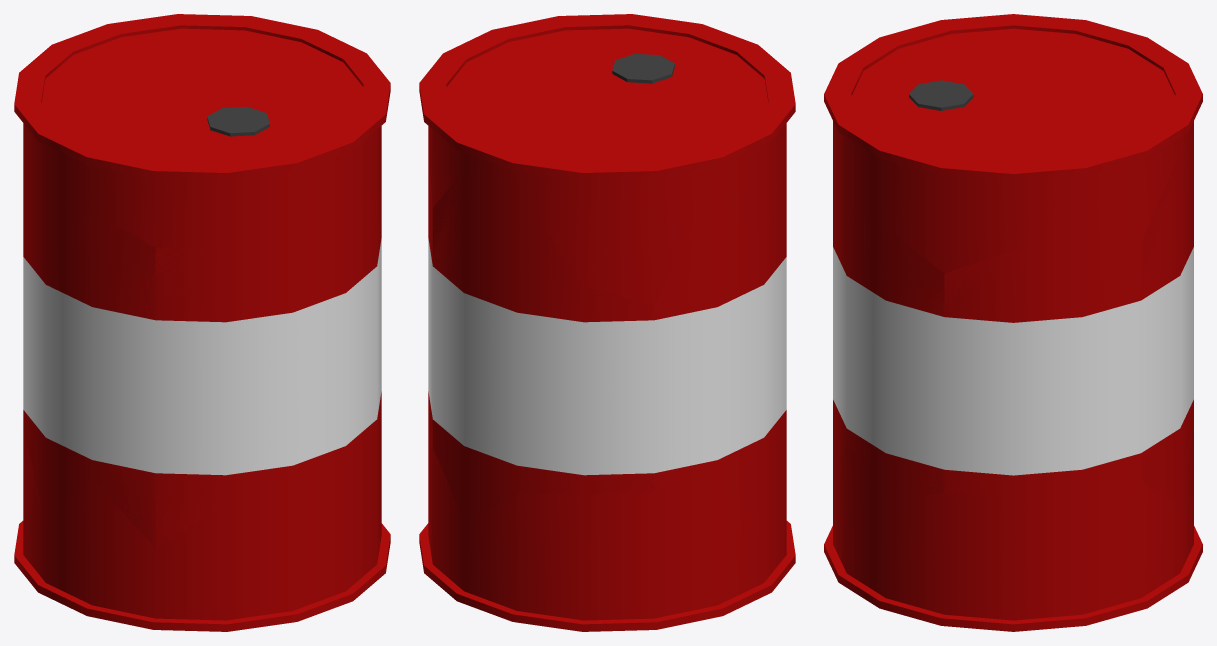
Rendered from BNG_Barrel.fbx.
3 renders of one model, left to right at view 1: azimuth 30°, elevation 25°; view 2: azimuth 150°, elevation 25°; view 3: azimuth 270°, elevation 25°, orthographic.
Visible parts, largest first — view 1: BNG_Barrel_Explode, BNG_Barrel_Explode_D01, BNG_Barrel_Explode_D00, BNG_Barrel_Explode_D03, BNG_Barrel_Explode_D05; view 2: BNG_Barrel_Explode, BNG_Barrel_Explode_D01, BNG_Barrel_Explode_D00, BNG_Barrel_Explode_D04, BNG_Barrel_Explode_D05; view 3: BNG_Barrel_Explode, BNG_Barrel_Explode_D01, BNG_Barrel_Explode_D00, BNG_Barrel_Explode_D02, BNG_Barrel_Explode_D03, BNG_Barrel_Explode_D04.
Boxes of the visible parts, x1,y1,x2,y2 form: BNG_Barrel_Explode: (14,14,390,631); BNG_Barrel_Explode_D01: (23,418,381,619); BNG_Barrel_Explode_D00: (24,125,381,249); BNG_Barrel_Explode_D03: (155,193,381,548); BNG_Barrel_Explode_D05: (23,129,155,548); BNG_Barrel_Explode: (419,14,795,631); BNG_Barrel_Explode_D01: (428,446,786,620); BNG_Barrel_Explode_D00: (430,123,786,305); BNG_Barrel_Explode_D04: (432,170,654,521); BNG_Barrel_Explode_D05: (654,165,786,522); BNG_Barrel_Explode: (824,14,1202,631); BNG_Barrel_Explode_D01: (833,428,1193,620); BNG_Barrel_Explode_D00: (833,121,1193,273); BNG_Barrel_Explode_D02: (944,226,1140,511); BNG_Barrel_Explode_D03: (833,185,944,496); BNG_Barrel_Explode_D04: (1141,124,1193,503).
Size of what is drawn, in the model's own units: 105 by 140 by 105.
